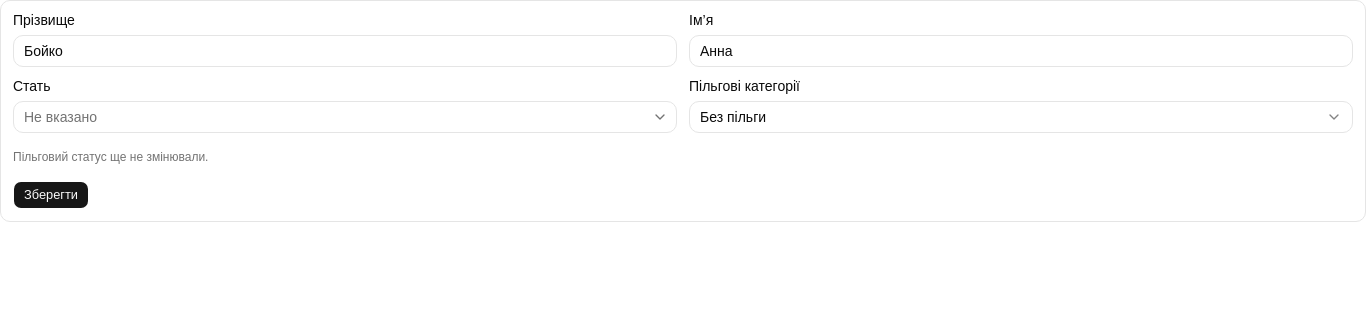
Scenario: профіль учня › порожнє прізвище не зберігає
Clear the field labelled "Прізвище" at (345,51), box [13, 35, 677, 67]
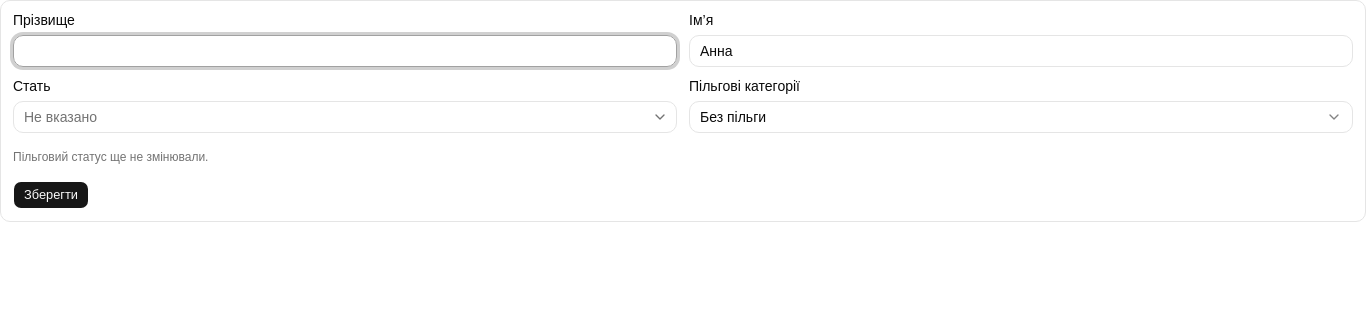
Click the button "Зберегти" at (51,195), box [13, 181, 89, 209]
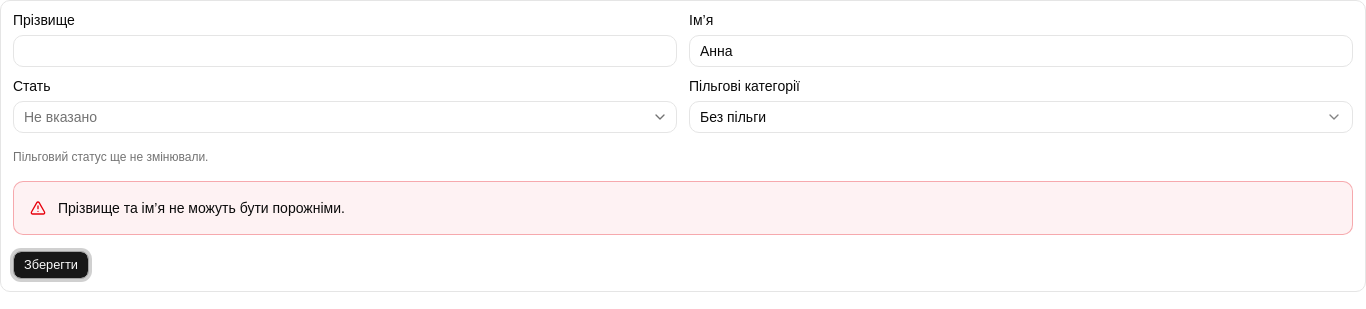
Check: the text "Прізвище та ім’я не можуть бути порожніми." is shown, box [58, 198, 345, 218]
